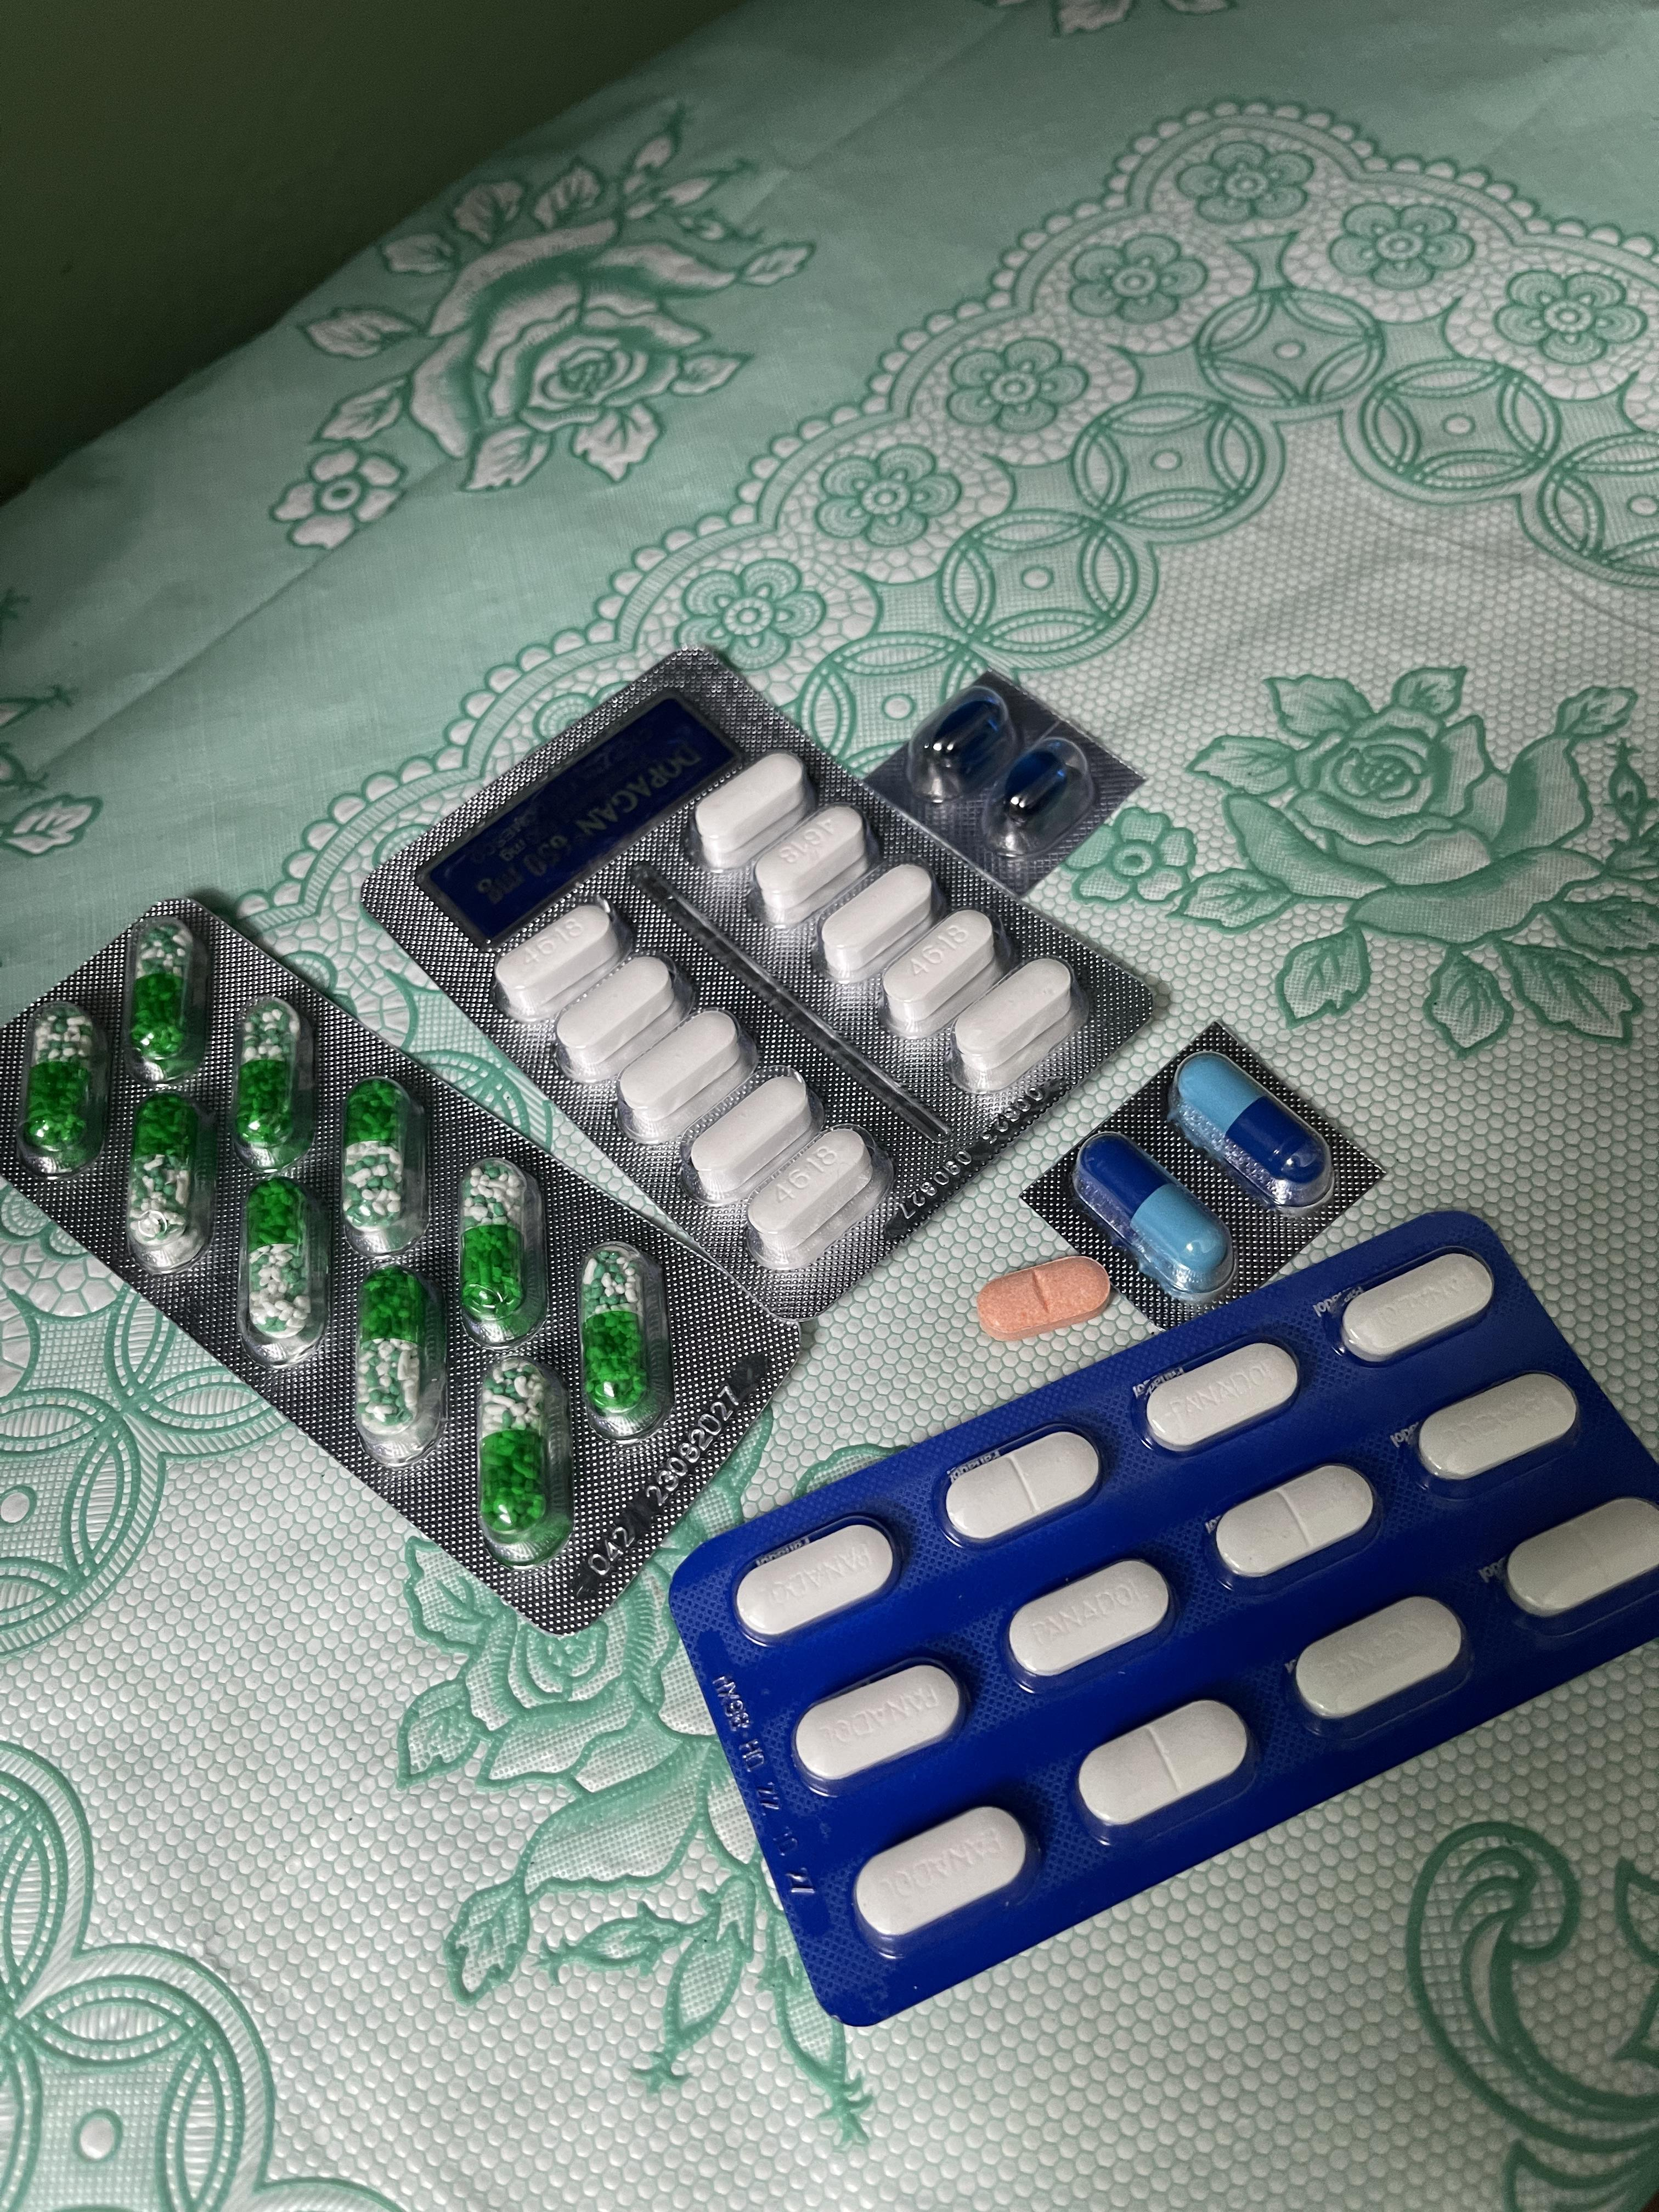Lincomyxin_500mg: (925, 697, 1006, 779), (1002, 745, 1077, 824)
Loratadine_10mg: (974, 1254, 1112, 1341)
Paracetamol_350mg: (852, 1803, 1033, 1949), (1077, 1698, 1255, 1836), (793, 1656, 967, 1792), (1290, 1594, 1466, 1728), (1007, 1555, 1175, 1683), (734, 1517, 899, 1642), (1211, 1465, 1377, 1583), (1504, 1493, 1659, 1618), (943, 1428, 1101, 1547), (1413, 1372, 1579, 1486), (1141, 1338, 1298, 1451), (1337, 1251, 1495, 1362)
Paracetamol_500mg: (748, 1123, 878, 1270), (617, 1008, 748, 1144), (880, 904, 1006, 1045), (955, 958, 1077, 1099), (556, 953, 681, 1083), (688, 1073, 812, 1204), (497, 900, 624, 1024), (817, 864, 941, 989), (694, 751, 816, 871), (753, 801, 871, 923)
Paracetamol_650mg: (474, 1364, 570, 1552), (354, 1268, 441, 1470), (579, 1244, 669, 1437), (457, 1155, 542, 1336), (17, 1008, 108, 1176), (125, 1090, 211, 1266), (340, 1080, 425, 1254), (230, 998, 315, 1167), (244, 1179, 326, 1348), (127, 918, 207, 1078)
pill: (1077, 1134, 1239, 1301), (1176, 1052, 1340, 1212)
